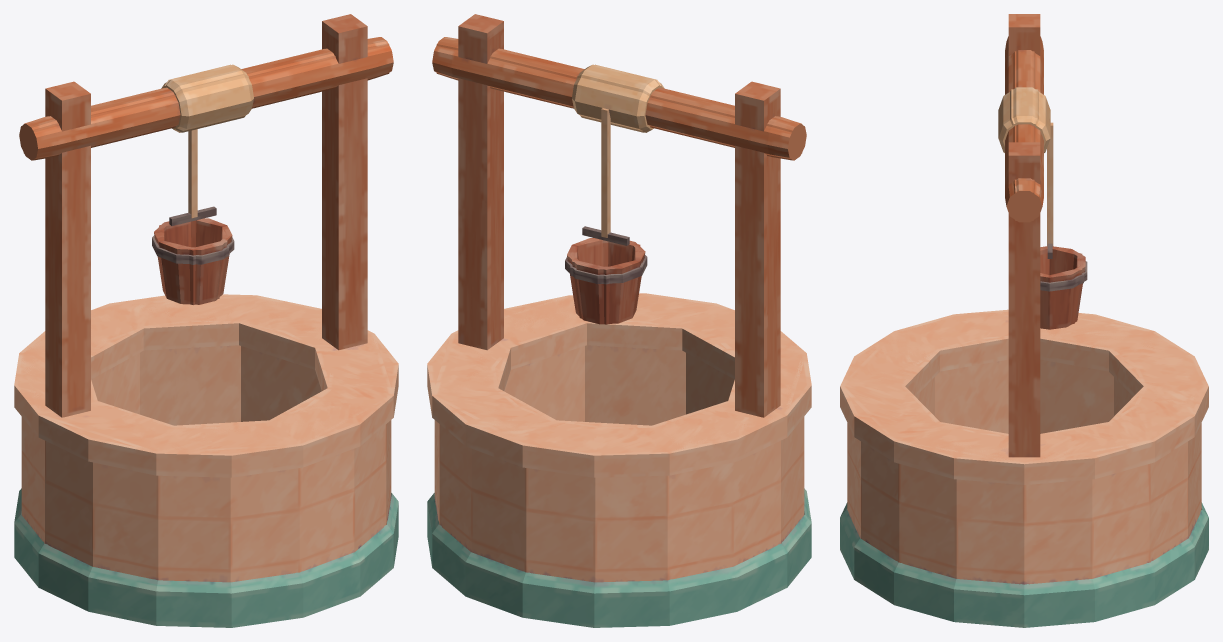
Rendered from well.bundle.fbx.
3 views of the same model, side by side, from view 1: azimuth 30°, elevation 25°; view 2: azimuth 150°, elevation 25°; view 3: azimuth 270°, elevation 25° (orthographic). The views are drawn at different scales.
Parts seen in each view (by area): view 1: well, well_low, well_s07, well_s05, well_s00, well_s02, well_s06, well_s01, well_s08, well_s04; view 2: well, well_low, well_s02, well_s07, well_s05, well_s01, well_s06, well_s04, well_s08; view 3: well, well_low, well_s06, well_s00, well_s04, well_s02, well_s07, well_s05, well_s08.
Boxes of the visible parts, box(x1,y1,x2,y2) form: well: box(14, 16, 398, 627); well_low: box(19, 14, 392, 580); well_s07: box(305, 26, 369, 304); well_s05: box(161, 271, 367, 422); well_s00: box(21, 304, 162, 410); well_s02: box(263, 326, 390, 417); well_s06: box(35, 311, 147, 542); well_s01: box(45, 82, 136, 316); well_s08: box(117, 14, 363, 136); well_s04: box(142, 380, 393, 452); well: box(427, 16, 811, 627); well_low: box(433, 14, 806, 580); well_s02: box(450, 302, 602, 422); well_s07: box(457, 14, 503, 292); well_s05: box(432, 280, 544, 416); well_s01: box(689, 87, 780, 323); well_s06: box(654, 306, 803, 544); well_s04: box(551, 296, 806, 423); well_s08: box(458, 15, 704, 136); well: box(840, 15, 1208, 627); well_low: box(841, 14, 1206, 584); well_s06: box(943, 318, 1149, 433); well_s00: box(1112, 330, 1208, 417); well_s04: box(847, 330, 968, 510); well_s02: box(915, 426, 1031, 549); well_s07: box(1008, 153, 1040, 415); well_s05: box(996, 398, 1171, 461); well_s08: box(1008, 68, 1040, 182).
Bounding box in the file's own units: 5.4 × 7.1 × 5.1.
Materials: 1 (1 with a texture image).
